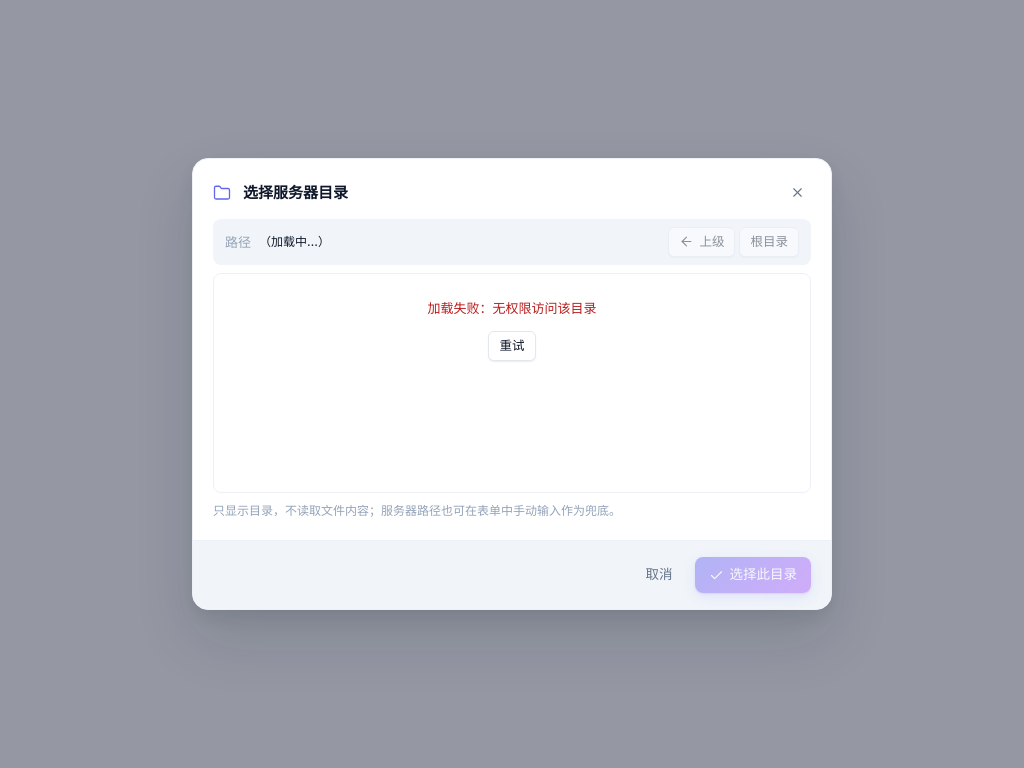
Web 服务器目录选择器（AC-257） › 加载失败保留弹窗并提示重试
This screenshot has width=1024, height=768.
Check: the text "加载失败：无权限访问该目录 重试" is shown, box 428,300 -> 596,361
Check: the text "选择服务器目录" is shown, box 243,181 -> 348,205
Click the button "重试".
click(512, 346)  # box 488,331 -> 536,361
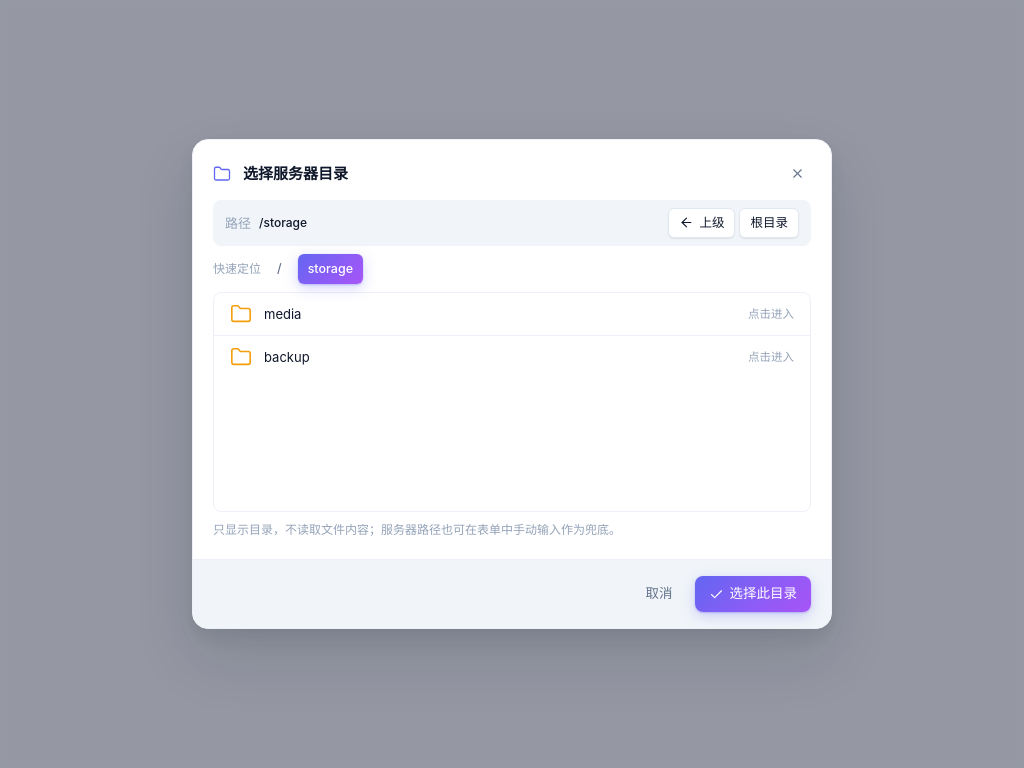
Check: the text "media" is shown, box 264,304 -> 301,324
